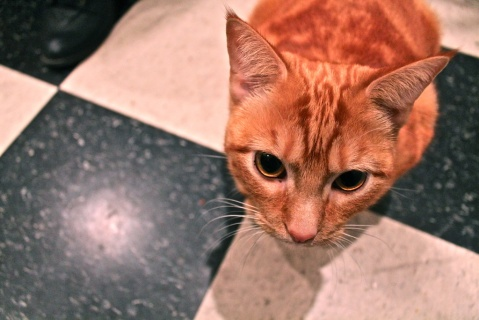Cat: (204, 2, 465, 280)
